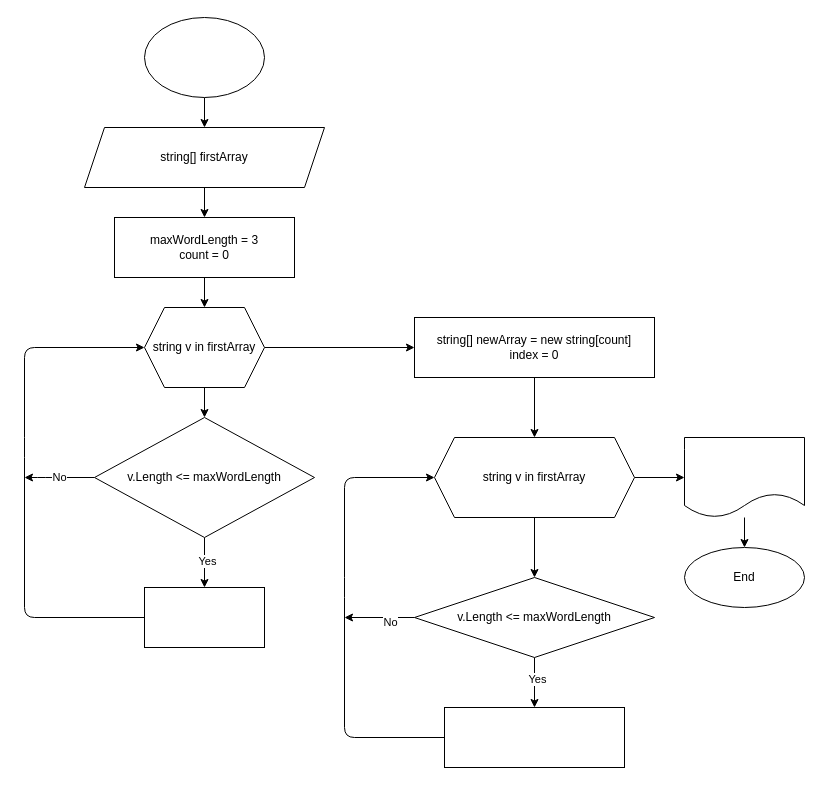
This 822x785 diagram has some shape labels left out. Each missing label, with the box of its shape:
count++: (144, 586, 264, 648)
newArray[index] = firstArray[i] index++: (444, 706, 624, 768)
Start: (144, 16, 264, 98)
string[] newArray: (684, 436, 804, 518)
